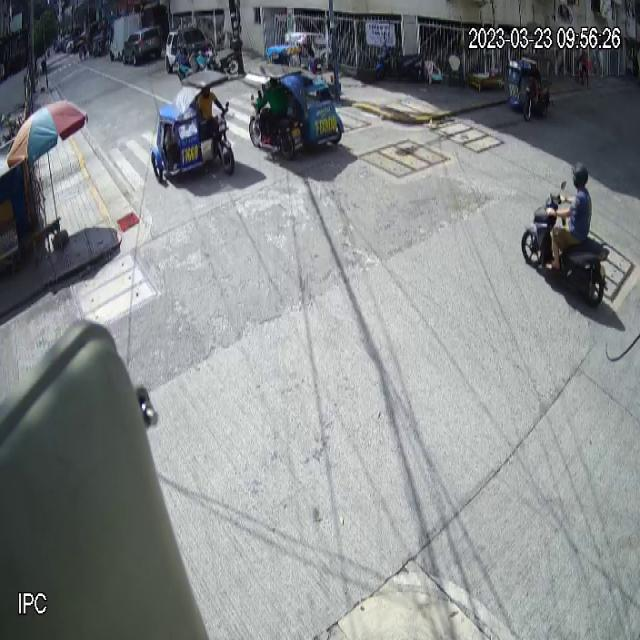Motorcycle: (520, 178, 611, 308)
Tricycle: (151, 69, 235, 184), (248, 60, 345, 158)
